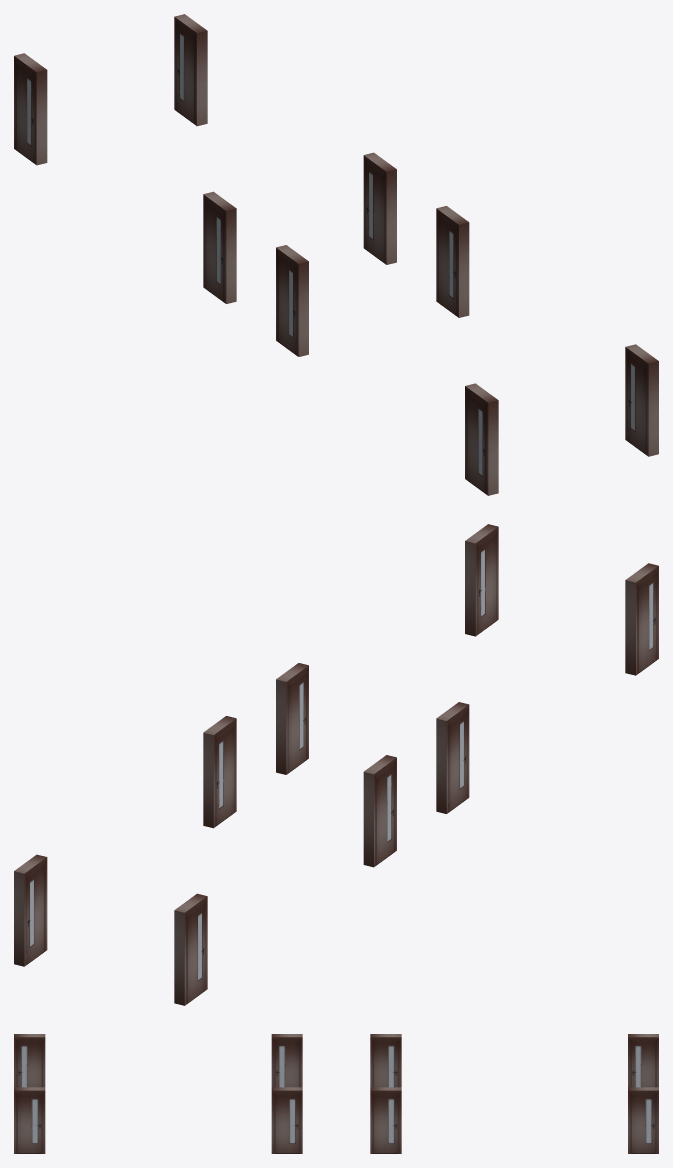
File: LouDao-05.FBX
3 views of the same model, one above another, from view 1: azimuth 30°, elevation 25°; view 2: azimuth 150°, elevation 25°; view 3: azimuth 270°, elevation 25° (orthographic). The views are drawn at different scales.
Parts seen in each view (by area): view 1: LouDao-05; view 2: LouDao-05; view 3: LouDao-05.
Part boxes in pixels (x1,y1,x2,y2): LouDao-05: (14,14,658,495); LouDao-05: (14,524,658,1005); LouDao-05: (14,1034,658,1153).
Size of the model in its own units: 3840 by 2000 by 18468.
